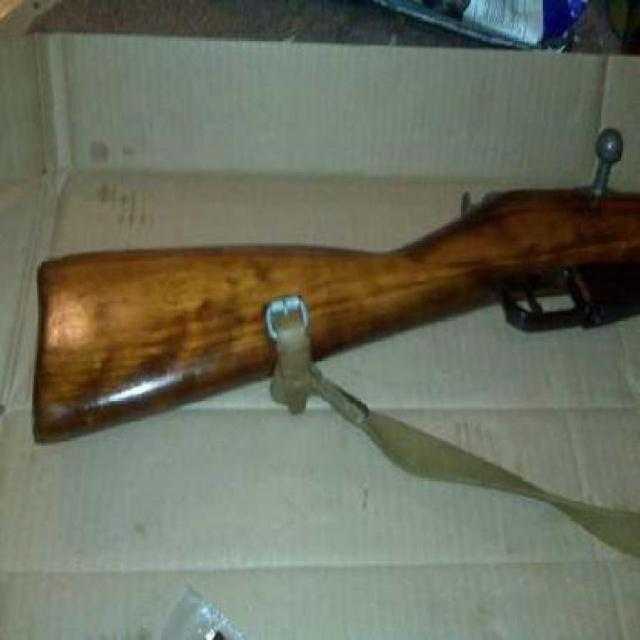weapon: (31, 126, 640, 449)
